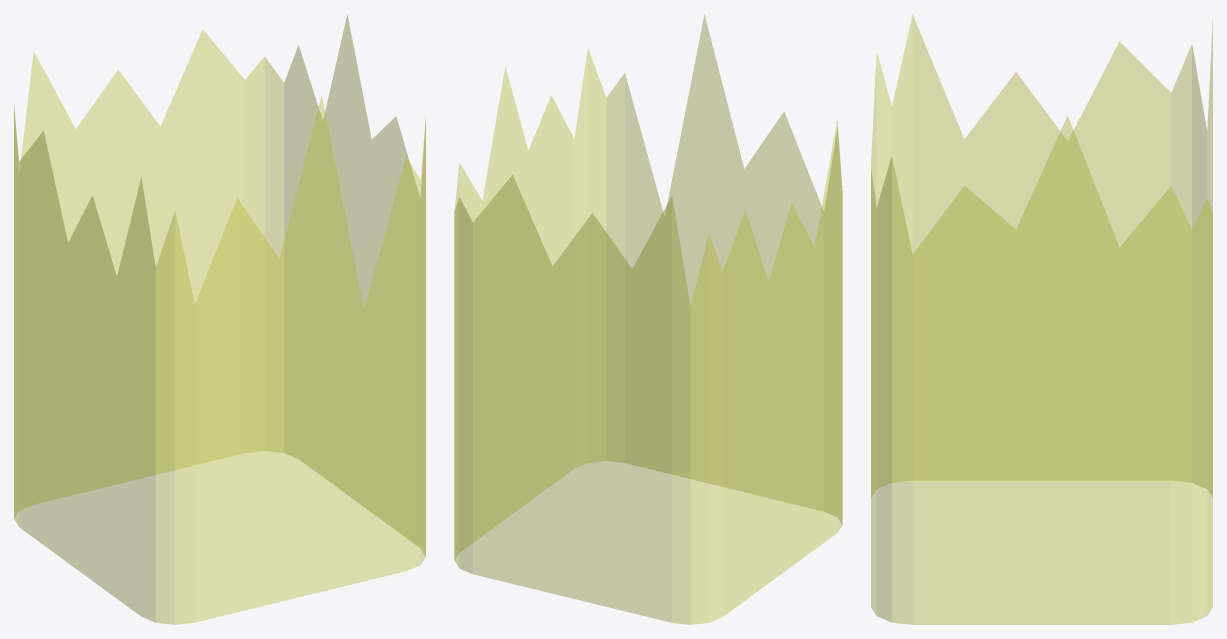
File: tile_lock.gltf
3 renders of one model, left to right at view 1: azimuth 30°, elevation 25°; view 2: azimuth 150°, elevation 25°; view 3: azimuth 270°, elevation 25°, orthographic. The views are drawn at different scales.
Visible parts, largest first — view 1: Plane.058; view 2: Plane.058; view 3: Plane.058.
Boxes of the visible parts, x1,y1,x2,y2 form: Plane.058: [14, 15, 425, 624]; Plane.058: [454, 15, 842, 624]; Plane.058: [871, 15, 1212, 624].
Size of the model in its own units: 1.87 by 3.19 by 1.87.
